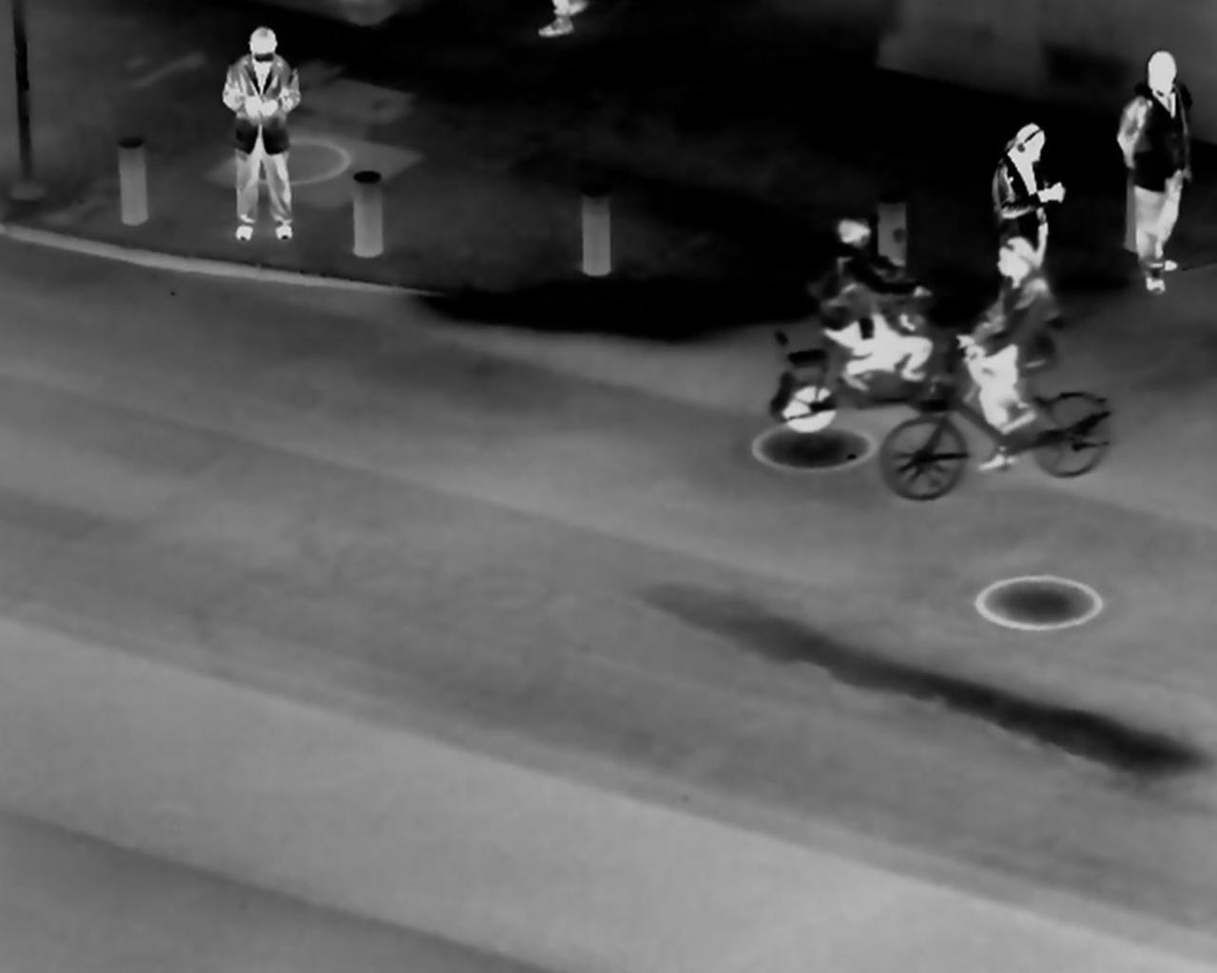person: (783, 192, 918, 406), (1098, 46, 1203, 297), (961, 238, 1068, 466), (213, 18, 312, 243), (979, 118, 1075, 282)
